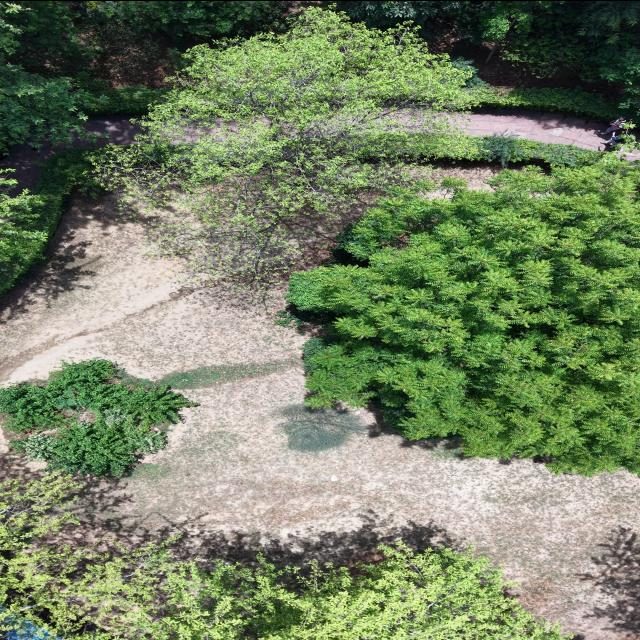DRY_AREA: (0, 193, 639, 639), (0, 194, 638, 639), (103, 369, 638, 639), (0, 192, 302, 384), (0, 192, 180, 384), (0, 194, 180, 383), (0, 258, 175, 383), (0, 259, 175, 381), (430, 29, 605, 92), (2, 115, 142, 193), (366, 107, 614, 151), (2, 115, 142, 192), (369, 107, 613, 150), (369, 107, 610, 150), (434, 108, 611, 150), (438, 108, 611, 149), (446, 107, 611, 148), (445, 108, 610, 149), (448, 109, 603, 148), (450, 110, 602, 149), (92, 26, 175, 87), (411, 159, 504, 189)
PATHWAYS: (2, 116, 141, 194), (2, 116, 142, 193)
VEGETATION_TREE: (0, 1, 639, 474), (0, 1, 638, 290), (0, 1, 638, 280), (95, 8, 581, 286), (288, 157, 639, 474), (96, 8, 471, 285), (0, 477, 569, 639), (290, 209, 637, 473), (94, 131, 600, 287), (0, 1, 281, 151), (0, 1, 282, 149), (338, 1, 639, 106), (379, 2, 638, 115), (265, 544, 567, 639), (381, 3, 637, 114), (11, 1, 285, 90), (0, 1, 158, 149), (0, 359, 196, 476), (0, 1, 99, 149), (0, 148, 98, 292), (11, 410, 165, 475), (86, 1, 281, 37), (0, 178, 49, 288), (480, 84, 624, 117), (338, 1, 483, 33), (278, 404, 365, 451), (600, 44, 639, 113), (578, 1, 639, 42)
